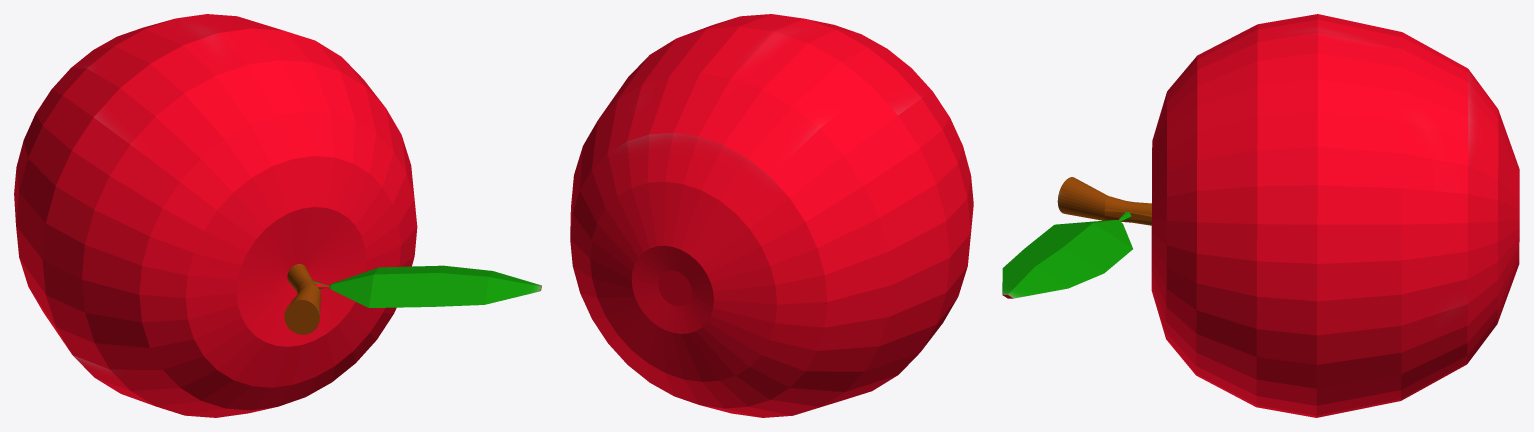
File: Apple.fbx
3 views of the same model, side by side, from view 1: azimuth 30°, elevation 25°; view 2: azimuth 150°, elevation 25°; view 3: azimuth 270°, elevation 25° (orthographic).
Parts seen in each view (by area): view 1: Cylinder; view 2: Cylinder; view 3: Cylinder.
Part boxes in pixels (x1,y1,x2,y2): Cylinder: [14, 14, 541, 417]; Cylinder: [570, 14, 973, 417]; Cylinder: [1002, 14, 1519, 417].
Bounding box in the file's own units: 65.74 × 84.12 × 65.74.
